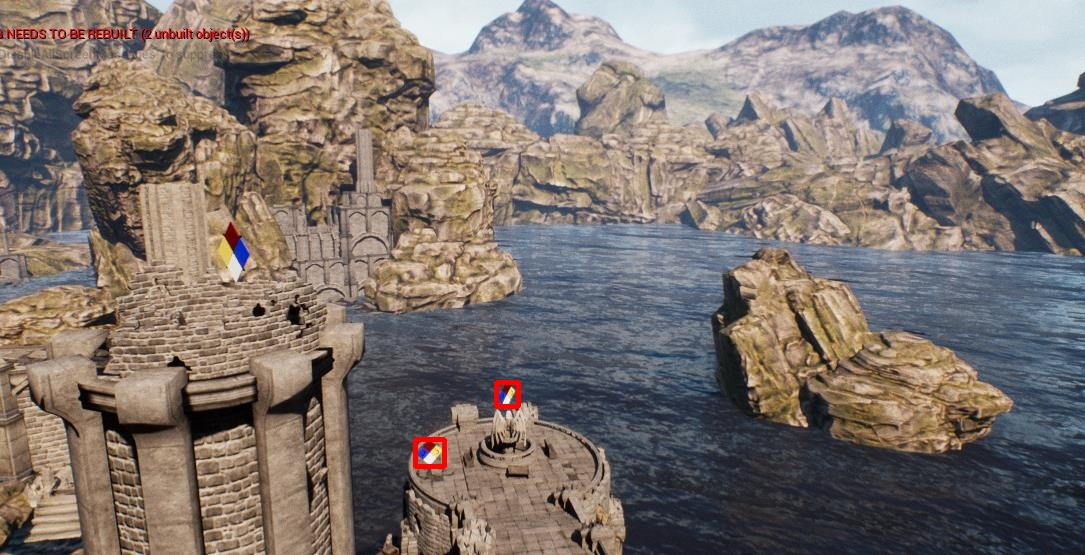nfpa: (415, 439, 444, 466), (496, 382, 518, 406)
